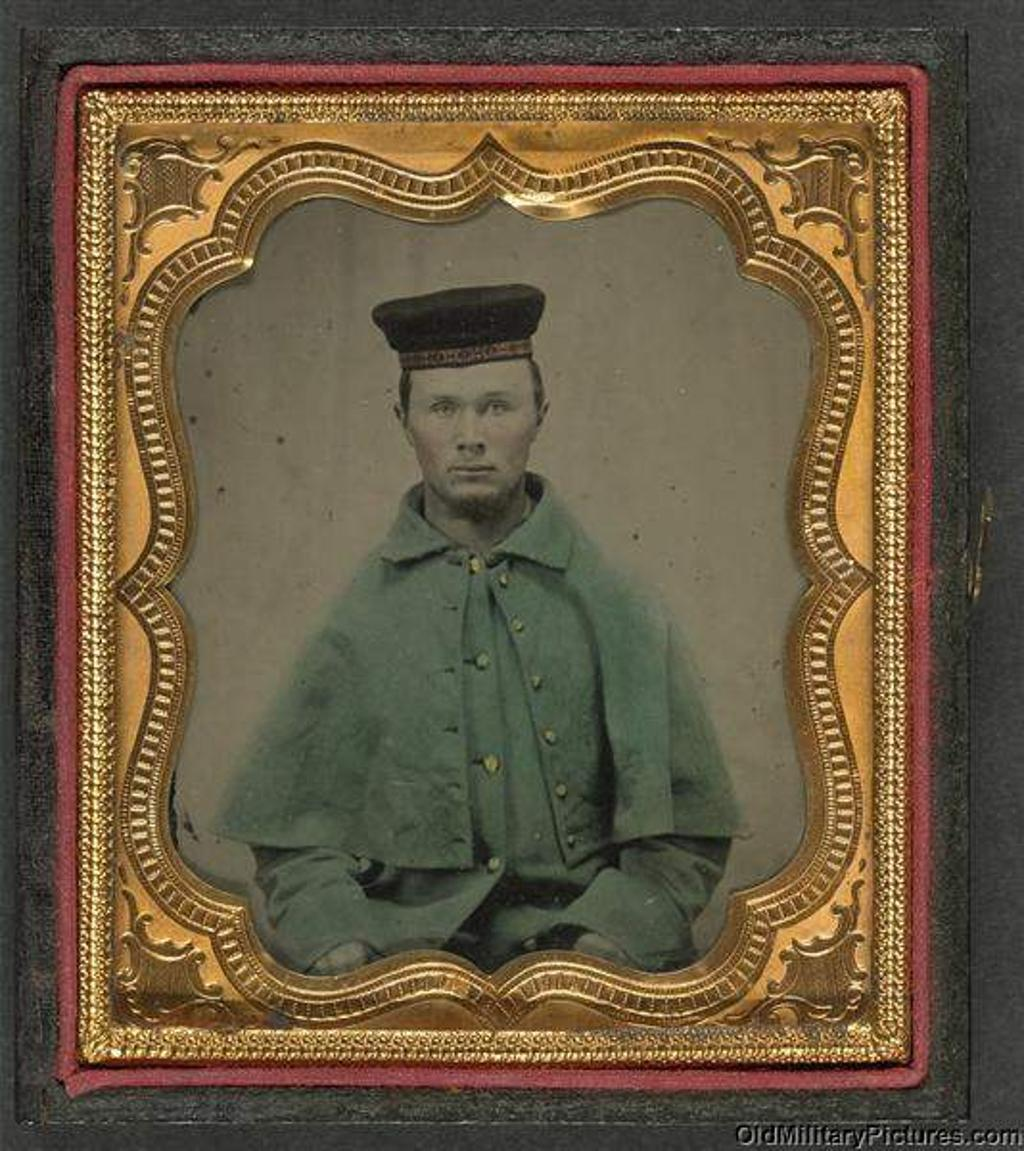face: (407, 349, 537, 502)
